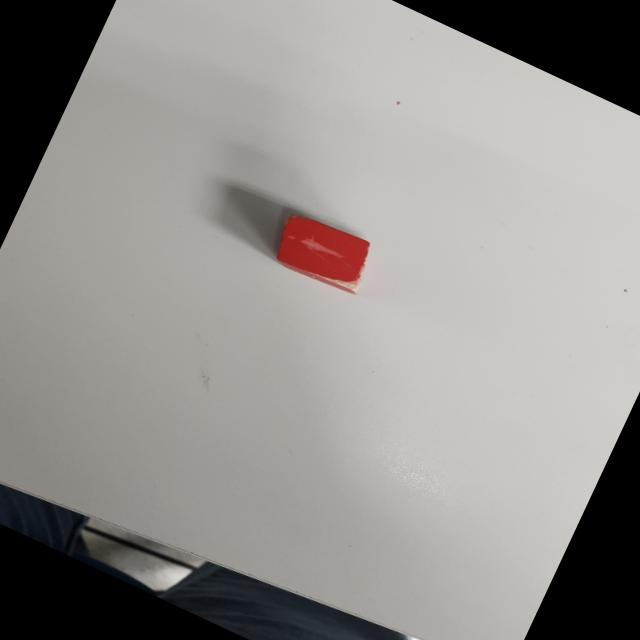broken: (270, 206, 376, 297)
